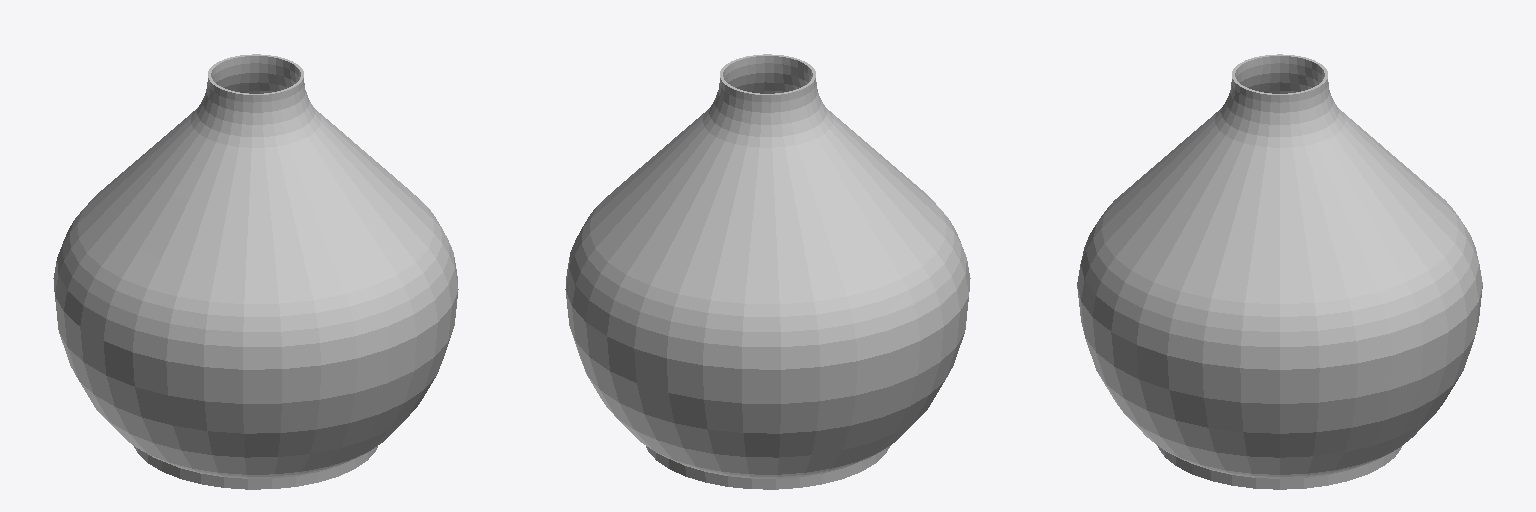
Rendered from SetA_PotionBottle_Style_05.obj.
3 views of the same model, side by side, from view 1: azimuth 30°, elevation 25°; view 2: azimuth 150°, elevation 25°; view 3: azimuth 270°, elevation 25° (orthographic).
Parts seen in each view (by area): view 1: SetA_PotionBottle_Style_05; view 2: SetA_PotionBottle_Style_05; view 3: SetA_PotionBottle_Style_05.
Boxes of the visible parts, <box> form: SetA_PotionBottle_Style_05: <box>53,54,458,489</box>; SetA_PotionBottle_Style_05: <box>565,54,970,489</box>; SetA_PotionBottle_Style_05: <box>1077,54,1482,489</box>.
Size of the model in its own units: 0.074 by 0.0729 by 0.074.